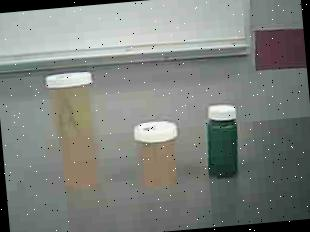Bottle A: (44, 69, 103, 190)
Bottle B: (134, 119, 185, 188)
Bottle C: (202, 102, 248, 180)
